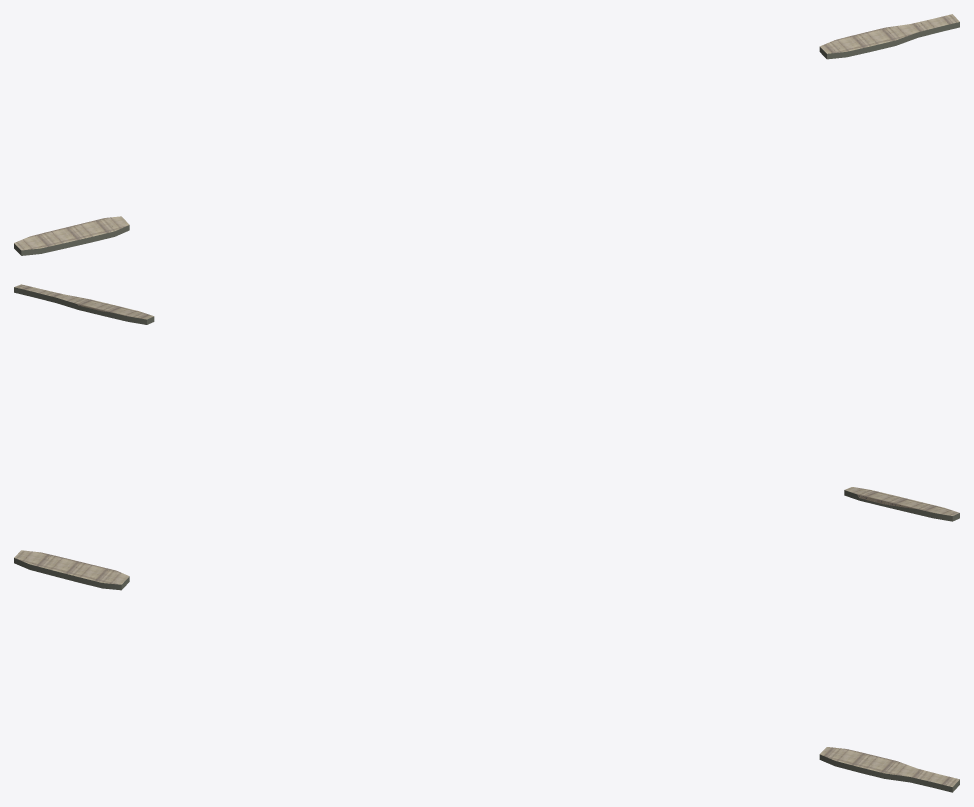
The model's file is SM_HK_02_04_Col_dmg.fbx.
3 views of the same model, one above another, from view 1: azimuth 30°, elevation 25°; view 2: azimuth 150°, elevation 25°; view 3: azimuth 330°, elevation 25° (orthographic).
Visible parts, largest first — view 1: SM_HK_02_04_Col_dmg; view 2: SM_HK_02_04_Col_dmg; view 3: SM_HK_02_04_Col_dmg.
Boxes of the visible parts, x1,y1,x2,y2 form: SM_HK_02_04_Col_dmg: (14,14,959,255); SM_HK_02_04_Col_dmg: (14,284,959,521); SM_HK_02_04_Col_dmg: (14,550,959,792).
Size of the model in its own units: 2842 by 27.39 by 65.56.
